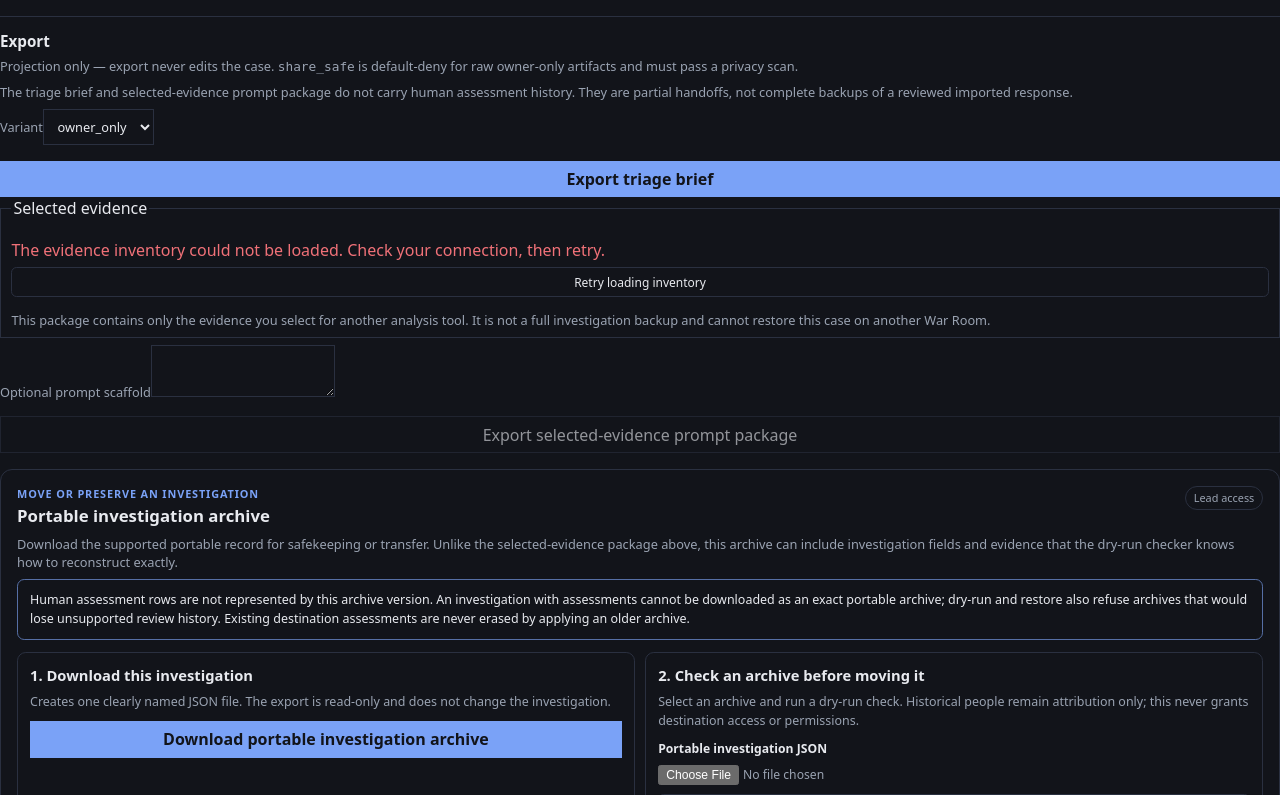
it: export panel › explains unsupported assessment history when the server refuses a portable download
expect the text "Human assessment rows are not represented" is shown: met, box [30,591,1247,626]
Step 1. Click the button "Download portable investigation archive" → (326, 739), box [30,721,622,758]
(page scrolled)
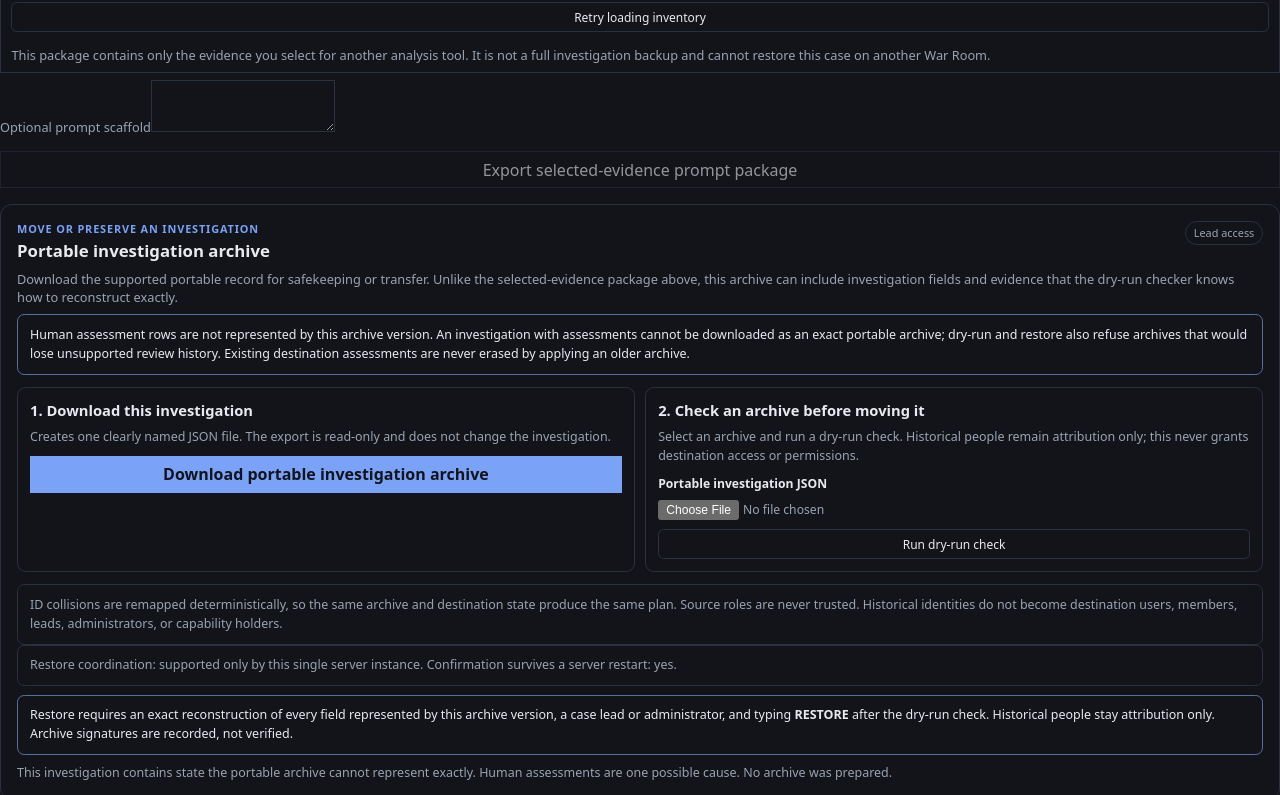
expect the text "Human assessments are one possible cause" is shown: met, box [17,764,892,781]
